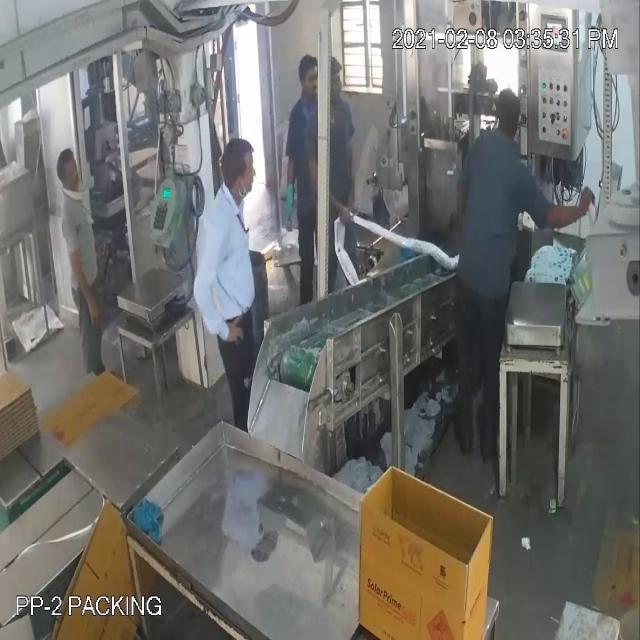No_Gloves: (26, 62, 563, 307)
